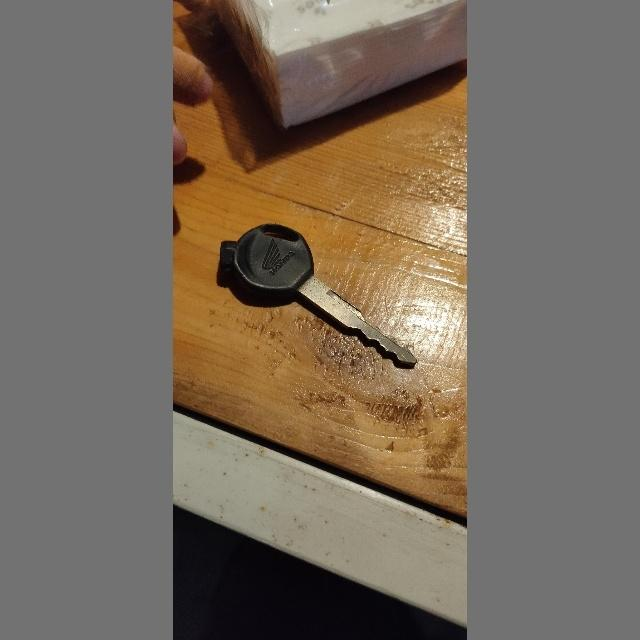Keys: (216, 214, 420, 370)
